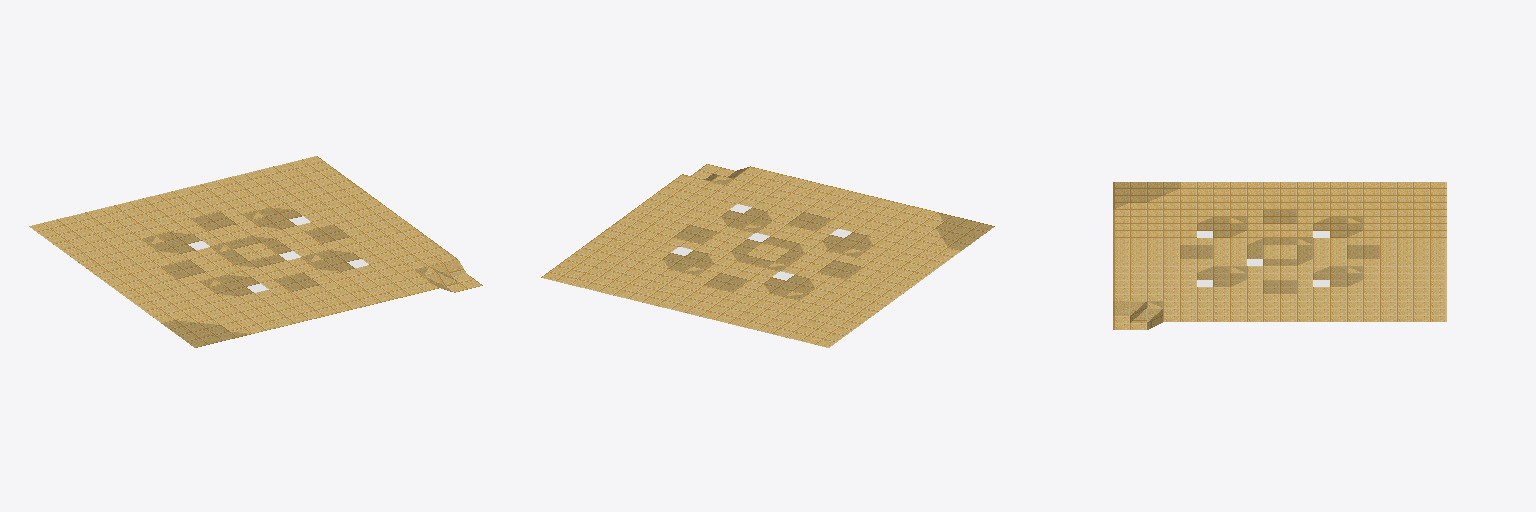
The picture shows the model from 3 angles: view 1: azimuth 30°, elevation 25°; view 2: azimuth 150°, elevation 25°; view 3: azimuth 270°, elevation 25°; orthographic projection.
Parts seen in each view (by area): view 1: FloorCentral_2; view 2: FloorCentral_2; view 3: FloorCentral_2.
Boxes of the visible parts, box(x1,y1,x2,y2) form: FloorCentral_2: box(29, 156, 482, 347); FloorCentral_2: box(541, 164, 994, 347); FloorCentral_2: box(1113, 182, 1446, 329).
Bounding box in the file's own units: 20 × 0.5291 × 20.
Materials: 8 (7 with a texture image).